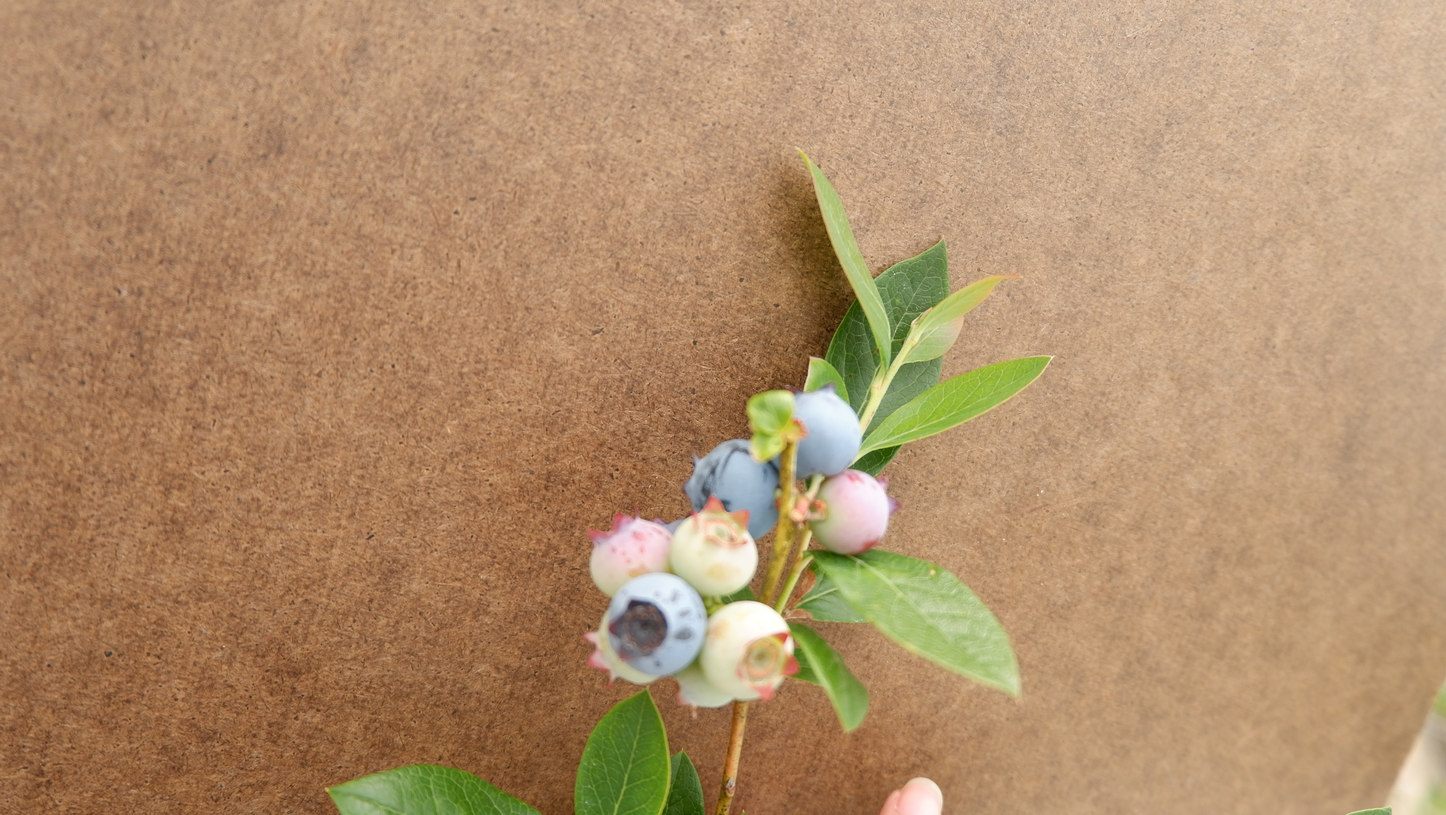Immature: (696, 601, 802, 702), (670, 494, 758, 597), (808, 469, 903, 554), (588, 506, 674, 595), (584, 610, 660, 687), (663, 655, 738, 709)
Mature: (607, 571, 707, 676), (683, 439, 781, 540), (771, 381, 863, 479), (652, 516, 684, 535)
